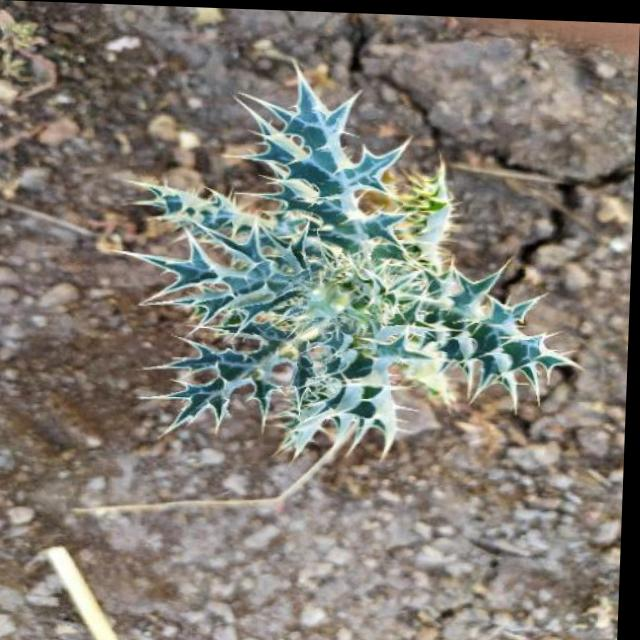weed: (114, 55, 593, 458)
